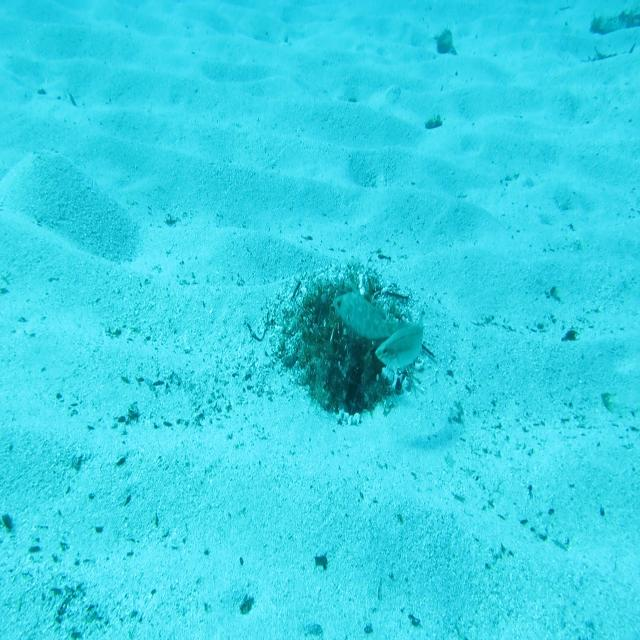INSF: (332, 287, 408, 341)
core_nest: (323, 295, 362, 326)
female: (374, 315, 425, 374)
nest: (266, 255, 431, 430)
vegetation: (589, 4, 640, 38), (433, 28, 458, 61), (423, 112, 443, 130), (314, 553, 328, 570)
